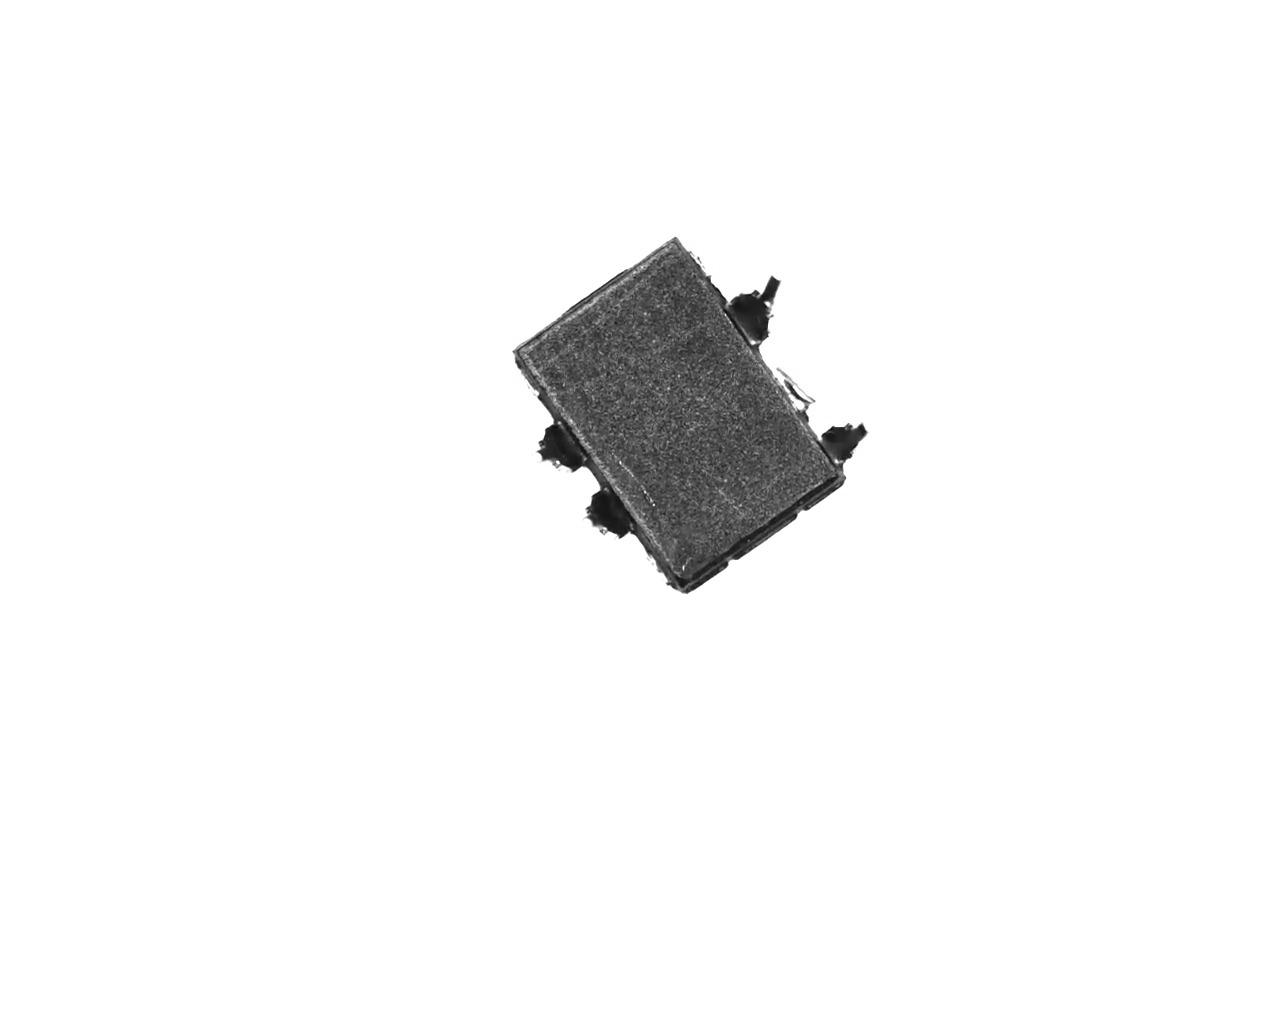brokenLeg: (522, 413, 589, 479), (722, 273, 778, 349), (813, 412, 871, 468), (579, 486, 632, 540)
missingLeg: (769, 369, 815, 423), (633, 537, 673, 596), (505, 363, 548, 408), (676, 237, 715, 280)
